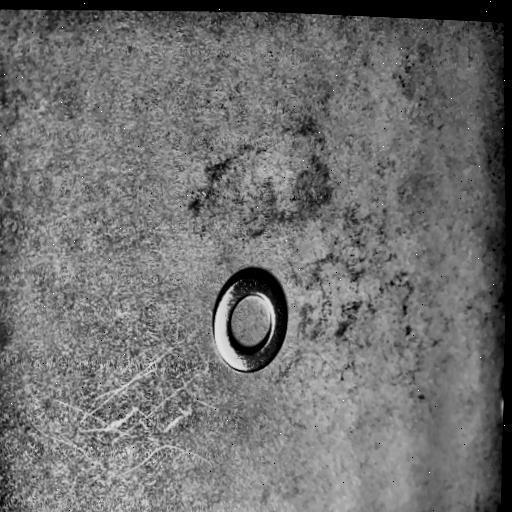Washer: (212, 266, 289, 374)
